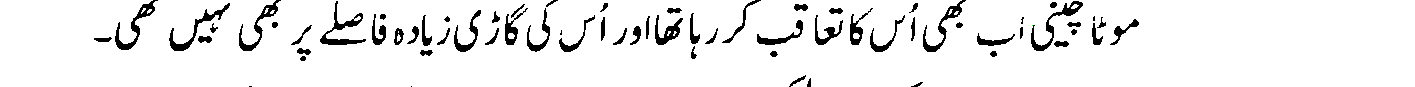bay_shosha: (975, 30, 1015, 58), (754, 30, 792, 58)
